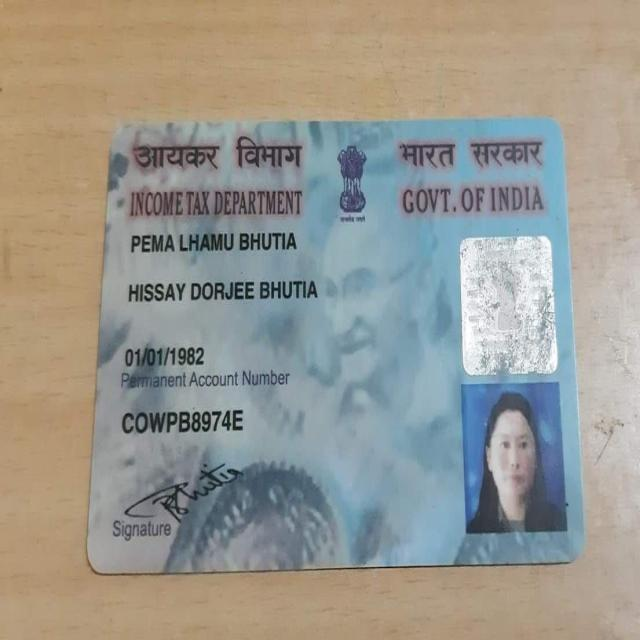pan_card: (93, 124, 579, 567)
